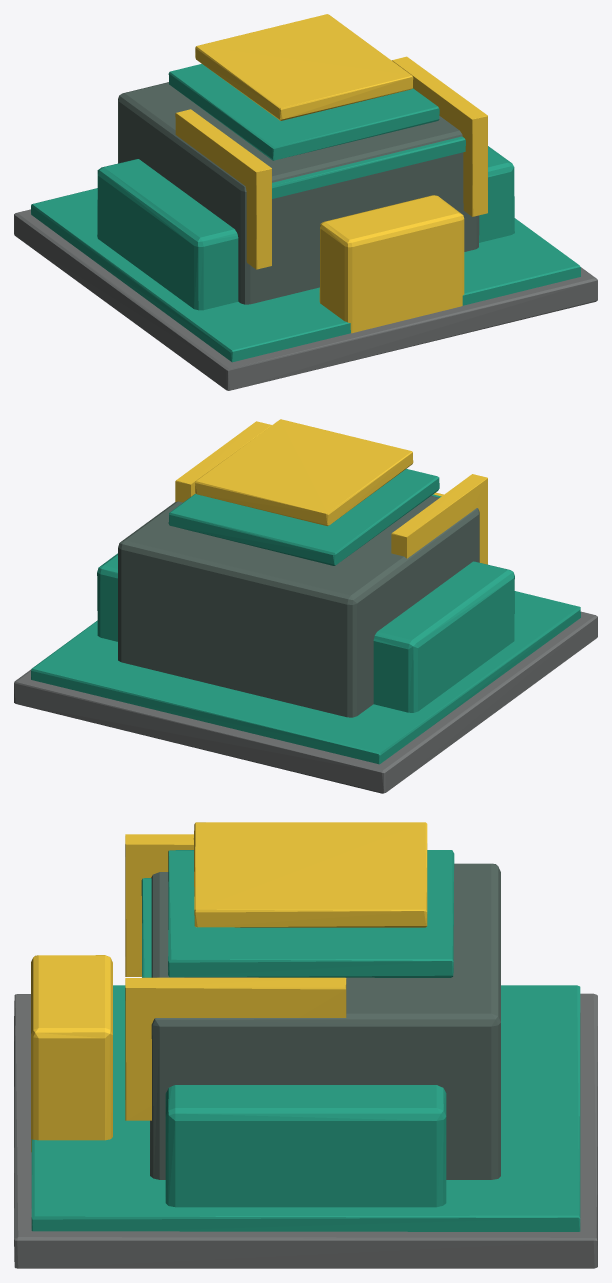
The model's file is SM_Coalition_CO_Barracks_LOD1.fbx.
3 views of the same model, one above another, from view 1: azimuth 30°, elevation 25°; view 2: azimuth 150°, elevation 25°; view 3: azimuth 270°, elevation 25° (orthographic). The views are drawn at different scales.
Visible parts, largest first — view 1: LOD01_SM_Coalition_CO_Barracks; view 2: LOD01_SM_Coalition_CO_Barracks; view 3: LOD01_SM_Coalition_CO_Barracks.
Part boxes in pixels (left/top/right/bottom): LOD01_SM_Coalition_CO_Barracks: left=14, top=14, right=597, bottom=390; LOD01_SM_Coalition_CO_Barracks: left=14, top=419, right=597, bottom=793; LOD01_SM_Coalition_CO_Barracks: left=14, top=822, right=597, bottom=1268.
Bounding box in the file's own units: 599 × 599 × 318.
